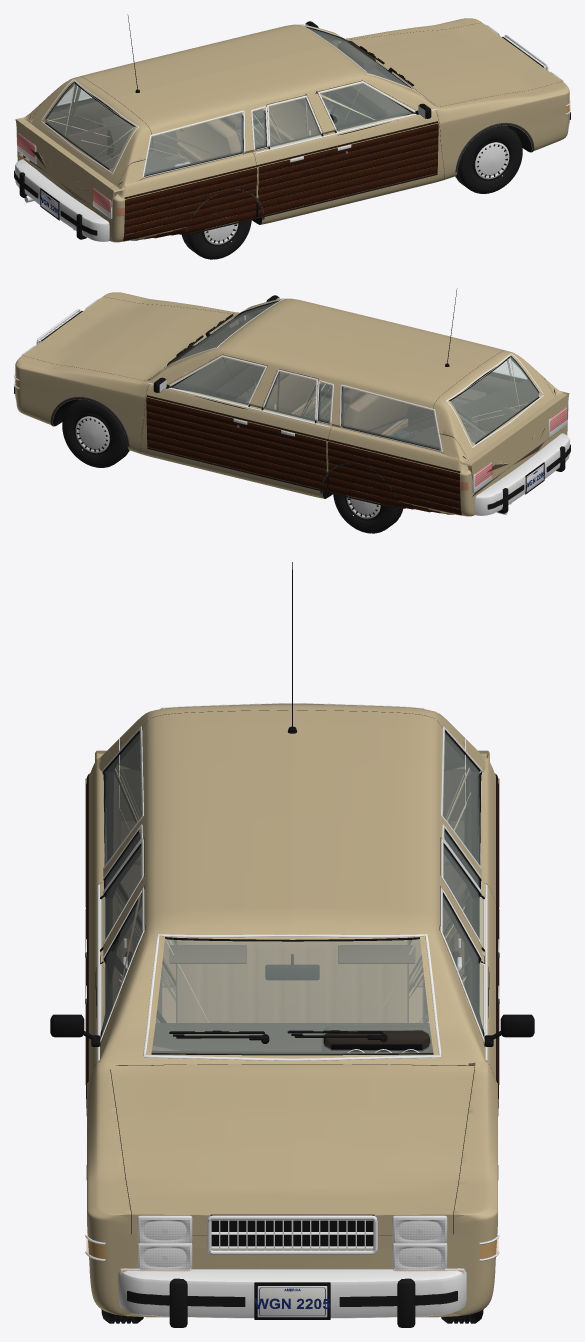
File: wagon82.glb
The picture shows the model from 3 angles, top to bottom: view 1: azimuth 30°, elevation 25°; view 2: azimuth 150°, elevation 25°; view 3: azimuth 270°, elevation 25°; orthographic projection. The views are drawn at different scales.
Parts seen in each view (by area): view 1: Body, Hood, Trim, Interior, Tailgate, Trim_FR, Glass, Trim_RR, Glass_Tailgate, Wheel_FR_mesh, Door_FR, Bumper_R (+6 smaller); view 2: Body, Hood, Trim, Interior, Tailgate, Trim_FL, Glass, Trim_RL, Glass_Tailgate, Wheel_FL_mesh, Door_FL, Bumper_R (+6 smaller); view 3: Body, Hood, Glass, Interior, Ends, Bumper_F, Tailgate, Lamps_Head, Trim, Door_FR, Door_FL, Trim_FL (+9 smaller).
Part boxes in pixels (x1,y1,x2,y2): Body: (15,18,569,242); Hood: (346,22,562,106); Trim: (23,14,534,241); Interior: (38,40,409,173); Tailgate: (21,76,152,205); Trim_FR: (318,81,438,200); Glass: (57,24,425,177); Trim_RR: (251,95,333,217); Glass_Tailgate: (40,79,138,174); Wheel_FR_mesh: (455,125,522,193); Door_FR: (316,80,444,207); Bumper_R: (14,159,109,241); Body: (15,292,569,516); Hood: (22,296,237,380); Trim: (50,288,511,515); Interior: (167,321,519,496); Tailgate: (432,350,563,479); Trim_FL: (146,355,266,474); Glass: (159,298,526,449); Trim_RL: (251,369,333,491); Glass_Tailgate: (446,353,544,448); Wheel_FL_mesh: (62,399,129,467); Door_FL: (140,354,267,481); Bumper_R: (475,433,570,515); Body: (87,710,497,1317); Hood: (110,1064,474,1235); Glass: (102,732,480,1060); Interior: (152,939,432,1052); Ends: (85,774,499,1319); Bumper_F: (118,1268,466,1327); Tailgate: (119,704,465,861); Lamps_Head: (140,1220,444,1270); Trim: (85,562,499,1179); Door_FR: (87,886,145,1085); Door_FL: (439,886,497,1085); Trim_FL: (440,887,534,1115).
Bounding box in the file's own units: 4.94 × 2.16 × 2.13.
35 materials, 6 textured.
